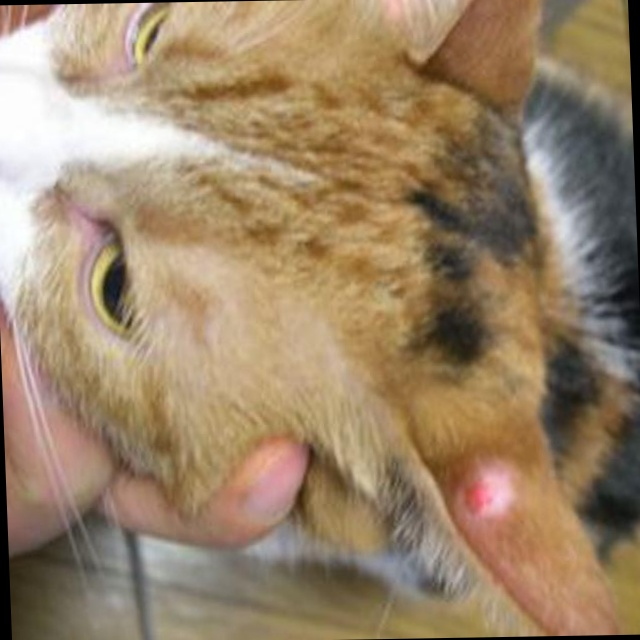lump_and_bump: (457, 466, 519, 520)
